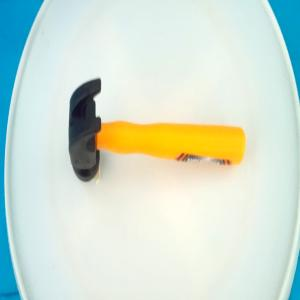martelo: (67, 77, 247, 182)
